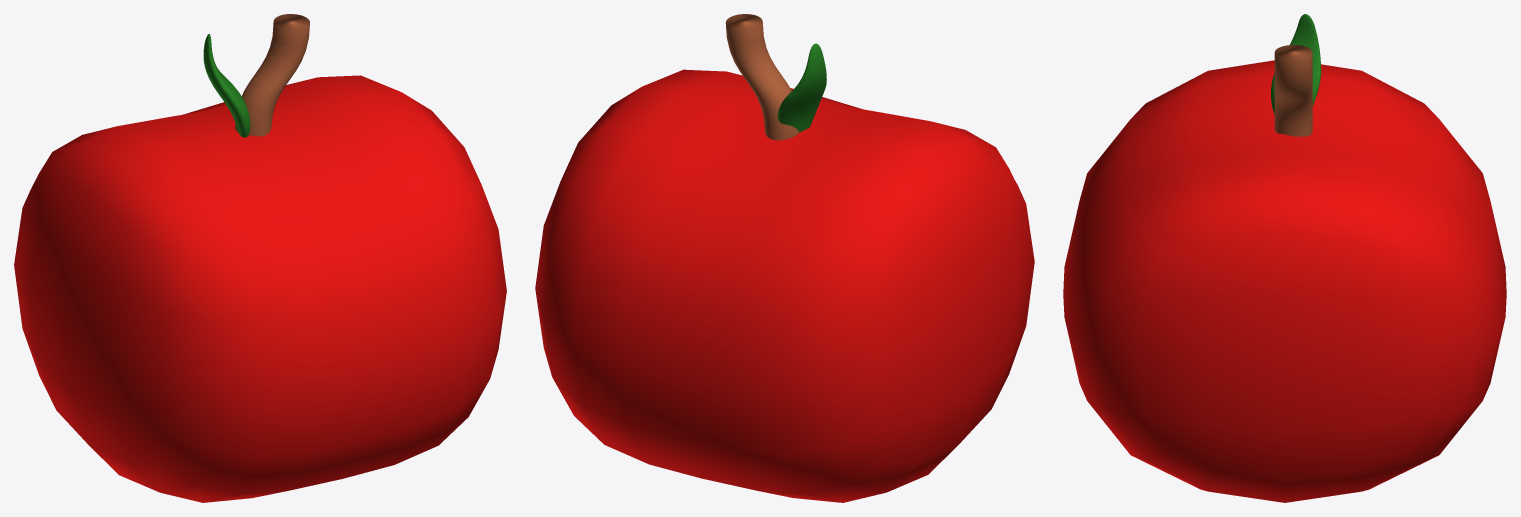
File: Poma.fbx
3 renders of one model, left to right at view 1: azimuth 30°, elevation 25°; view 2: azimuth 150°, elevation 25°; view 3: azimuth 270°, elevation 25°, orthographic. The views are drawn at different scales.
Visible parts, largest first — view 1: Poma; view 2: Poma; view 3: Poma.
Boxes of the visible parts, left/top/right/bottom form: Poma: left=14, top=14, right=506, bottom=502; Poma: left=535, top=14, right=1034, bottom=502; Poma: left=1063, top=14, right=1506, bottom=502.
Bounding box in the file's own units: 184 × 194 × 183.
